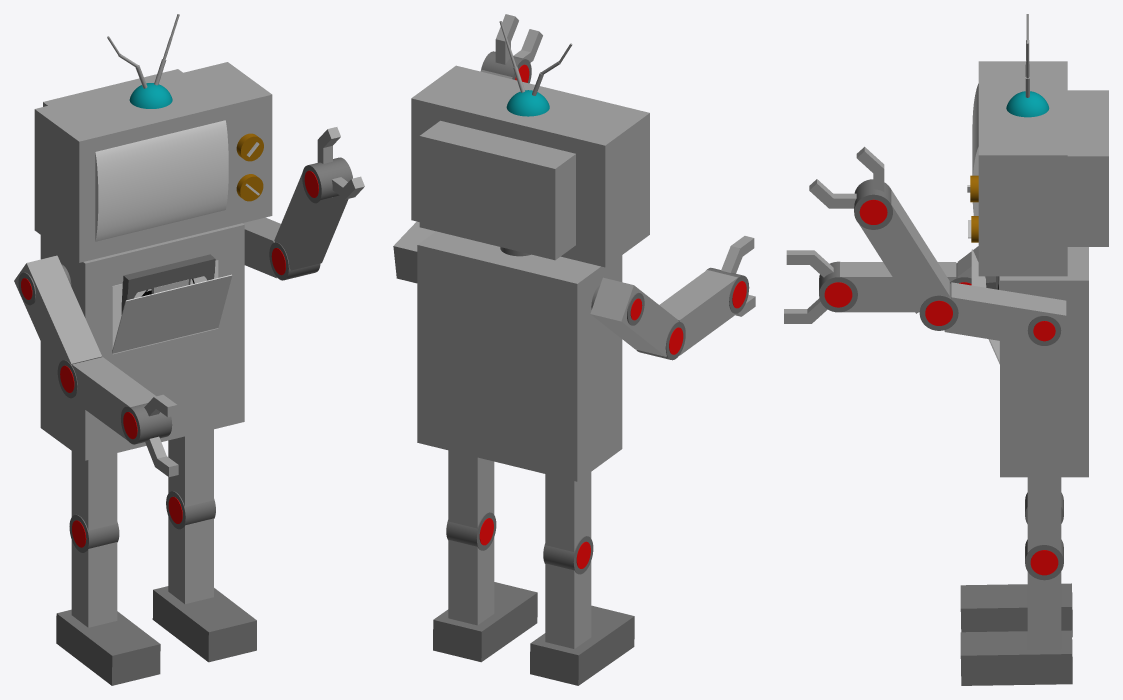
The model's file is Robot.glb.
The picture shows the model from 3 angles, left to right: view 1: azimuth 30°, elevation 25°; view 2: azimuth 150°, elevation 25°; view 3: azimuth 270°, elevation 25°; orthographic projection.
Size of what is drawn, in the model's own units: 2.41 by 6.16 by 2.92.
